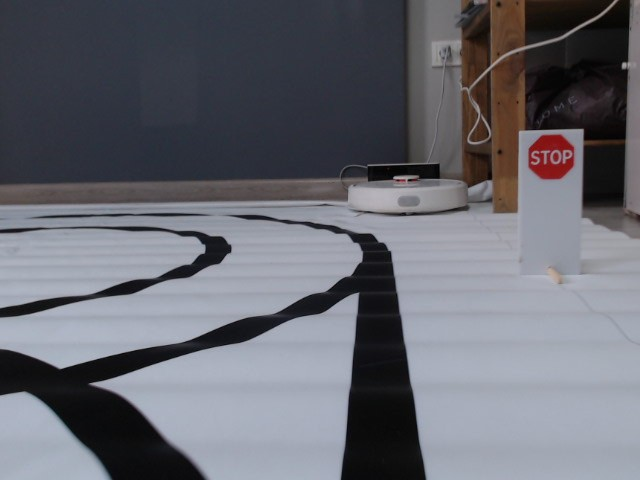Stop: (527, 134, 576, 182)
